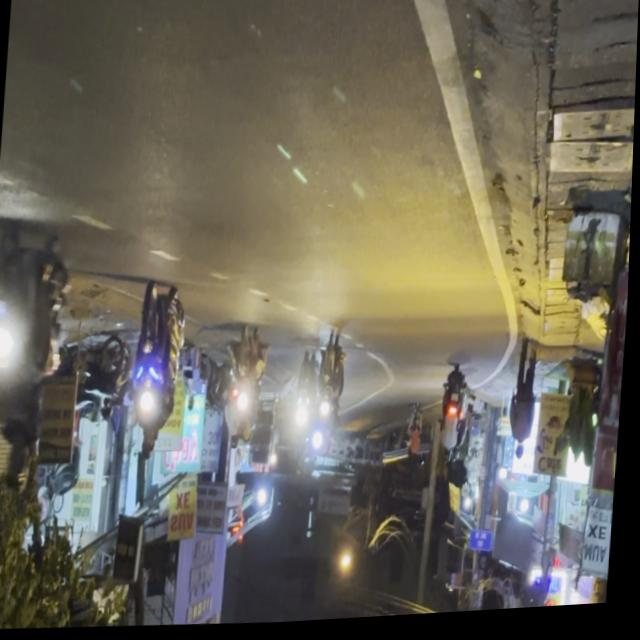helmet: (142, 433, 159, 464)
licenseplate: (0, 216, 80, 491), (126, 279, 191, 468)
